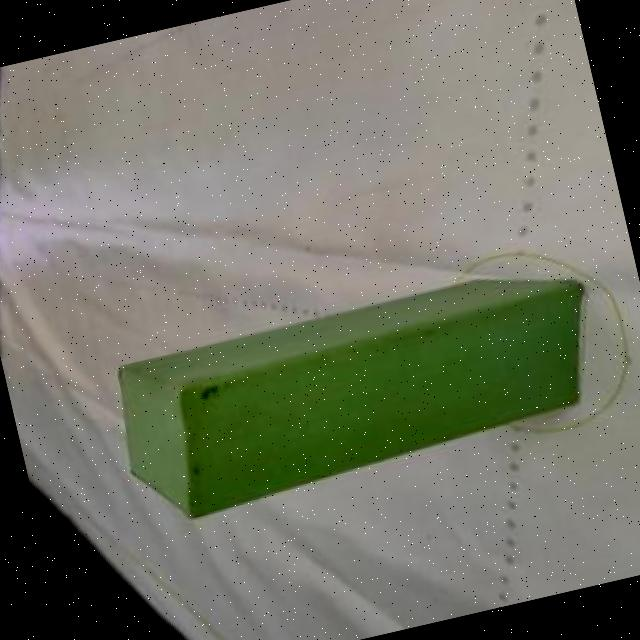greenbox: (102, 256, 616, 530)
